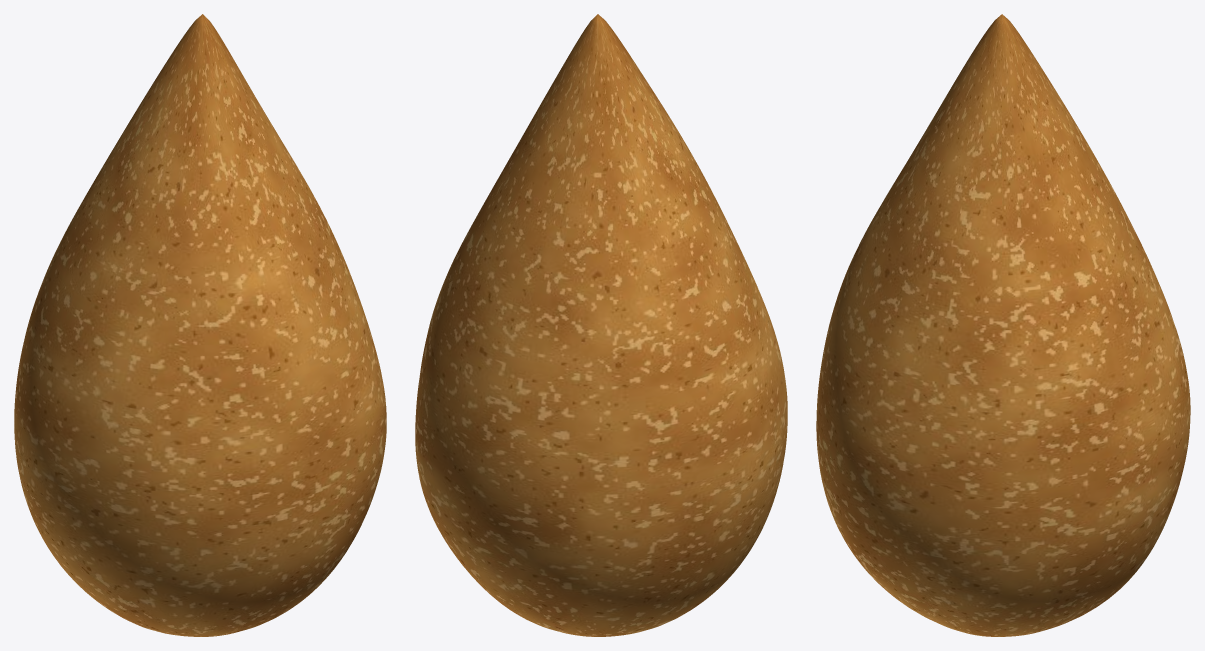
File: coxinha.glb
3 views of the same model, side by side, from view 1: azimuth 30°, elevation 25°; view 2: azimuth 150°, elevation 25°; view 3: azimuth 270°, elevation 25° (orthographic).
Visible parts, largest first — view 1: coxinha; view 2: coxinha; view 3: coxinha.
Part boxes in pixels (box(x1,y1,x2,y2)): coxinha: box(14, 14, 386, 636); coxinha: box(415, 14, 787, 636); coxinha: box(816, 14, 1190, 636).
Bounding box in the file's own units: 0.05 × 0.09 × 0.05.
Materials: 1 (1 with a texture image).
